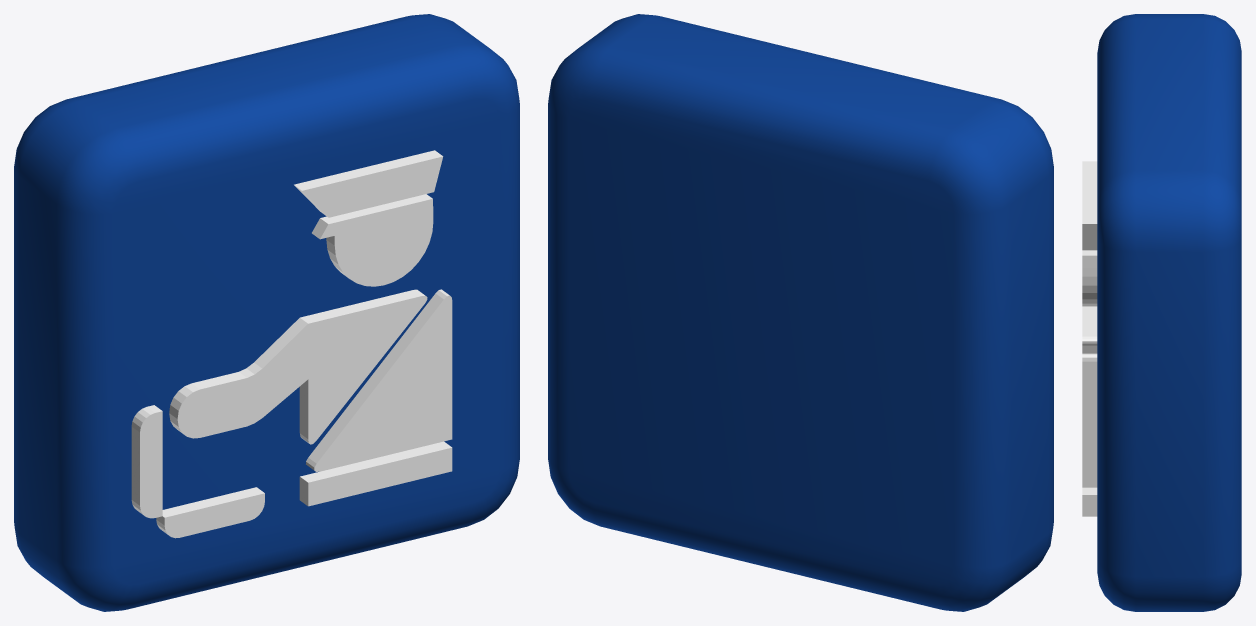
The model's file is customs.glb.
3 views of the same model, side by side, from view 1: azimuth 30°, elevation 25°; view 2: azimuth 150°, elevation 25°; view 3: azimuth 270°, elevation 25° (orthographic). The views are drawn at different scales.
Visible parts, largest first — view 1: Cube.300; view 2: Cube.300; view 3: Cube.300.
Part boxes in pixels (box(x1,y1,x2,y2)): Cube.300: box(14, 14, 519, 611); Cube.300: box(548, 14, 1053, 611); Cube.300: box(1082, 14, 1241, 611).
Size of the model in its own units: 2.2 by 2.2 by 0.73.
1 material, 1 textured.
